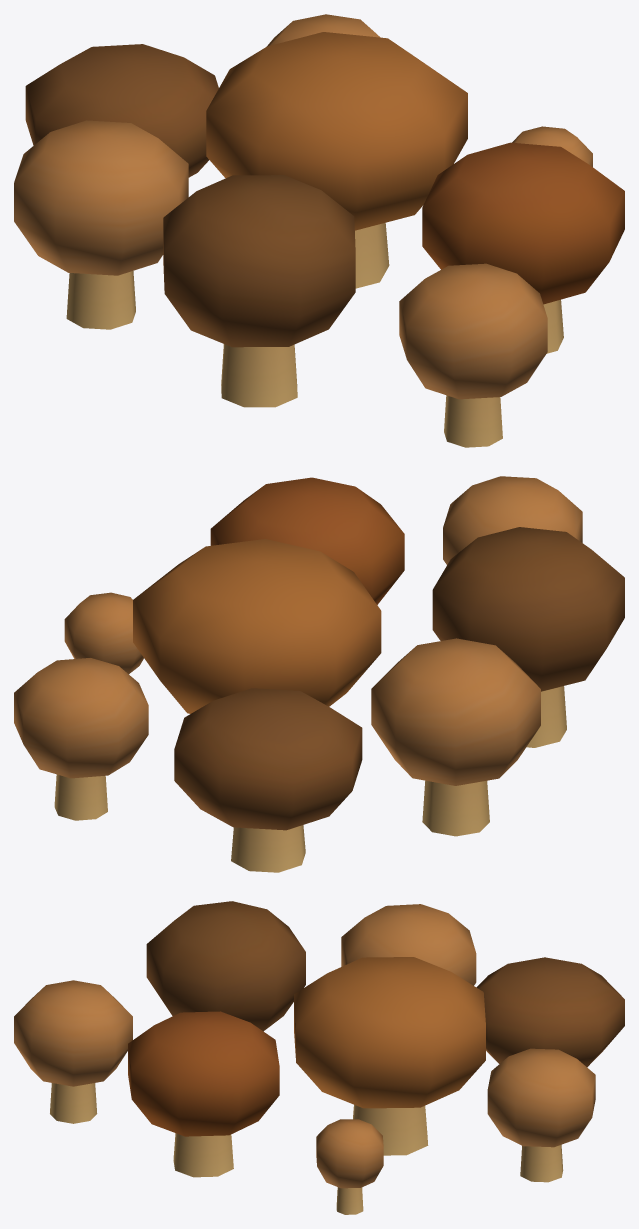
File: Musshrooms_1_1.glb
3 views of the same model, one above another, from view 1: azimuth 30°, elevation 25°; view 2: azimuth 150°, elevation 25°; view 3: azimuth 270°, elevation 25° (orthographic). The views are drawn at different scales.
Visible parts, largest first — view 1: Musshrooms_1_1; view 2: Musshrooms_1_1; view 3: Musshrooms_1_1.
Part boxes in pixels (bbox=[...]): Musshrooms_1_1: bbox=[14, 14, 624, 447]; Musshrooms_1_1: bbox=[14, 476, 624, 872]; Musshrooms_1_1: bbox=[14, 901, 624, 1214].
Bounding box in the file's own units: 0.2636 × 0.1028 × 0.3454.
1 material, 1 textured.
